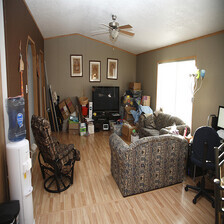laptop: (209, 103, 224, 144)
